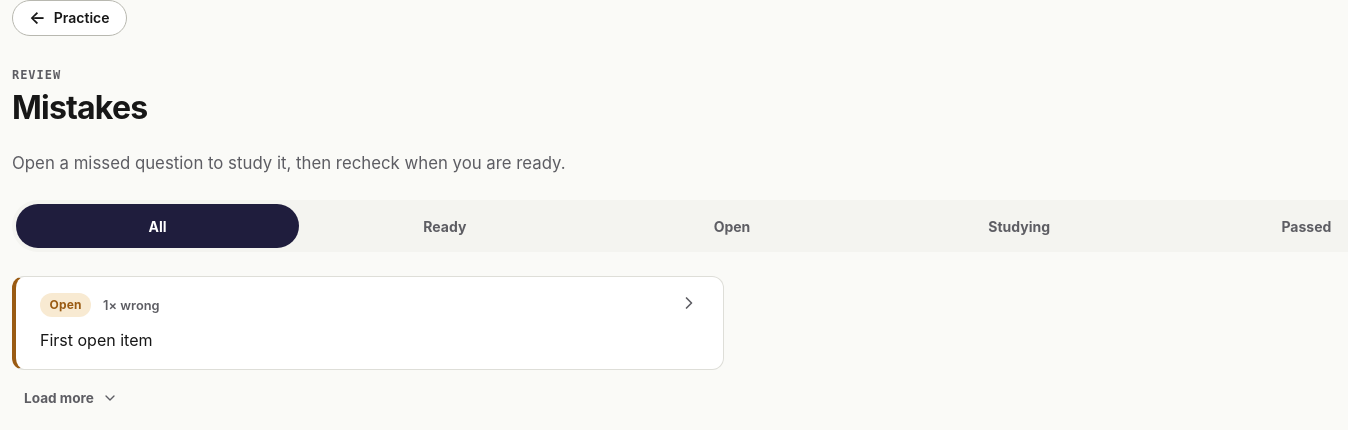
it: reloads the first page when load more hits a stale status cursor
This screenshot has width=1348, height=430.
Expected: the text "First open item" is shown, [40,330,152,350]
Click the button "Open": point(732, 226) [590,204,874,248]
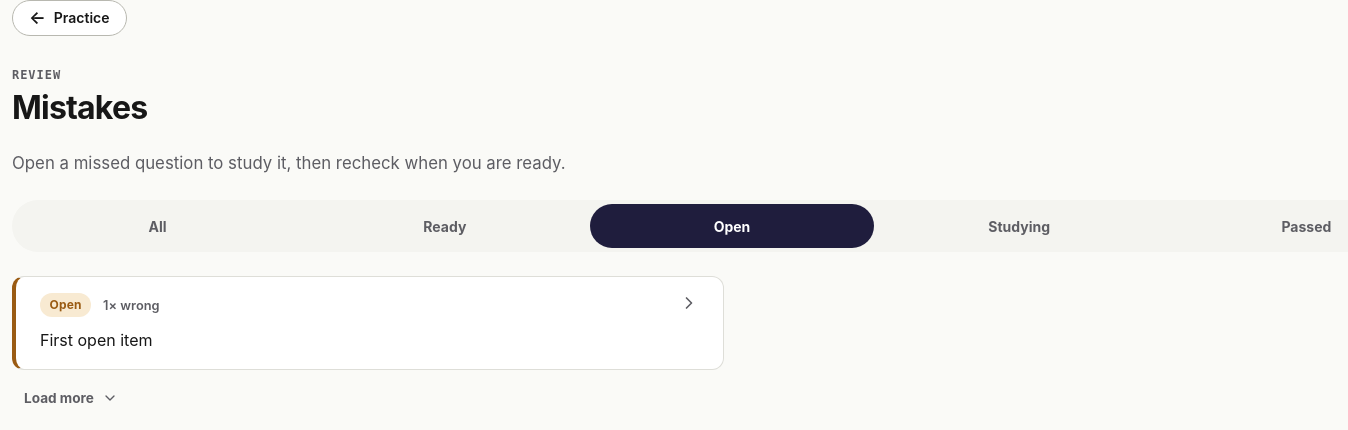
Click the button "Load more": point(71, 398) [12,382,130,414]
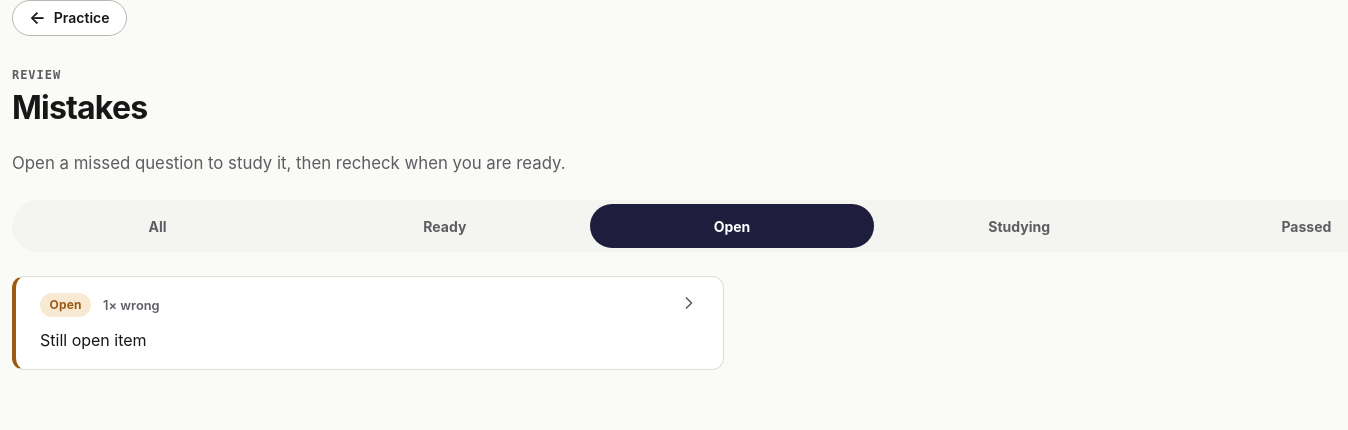
Expected: the text "Still open item" is shown, [40,330,147,350]
